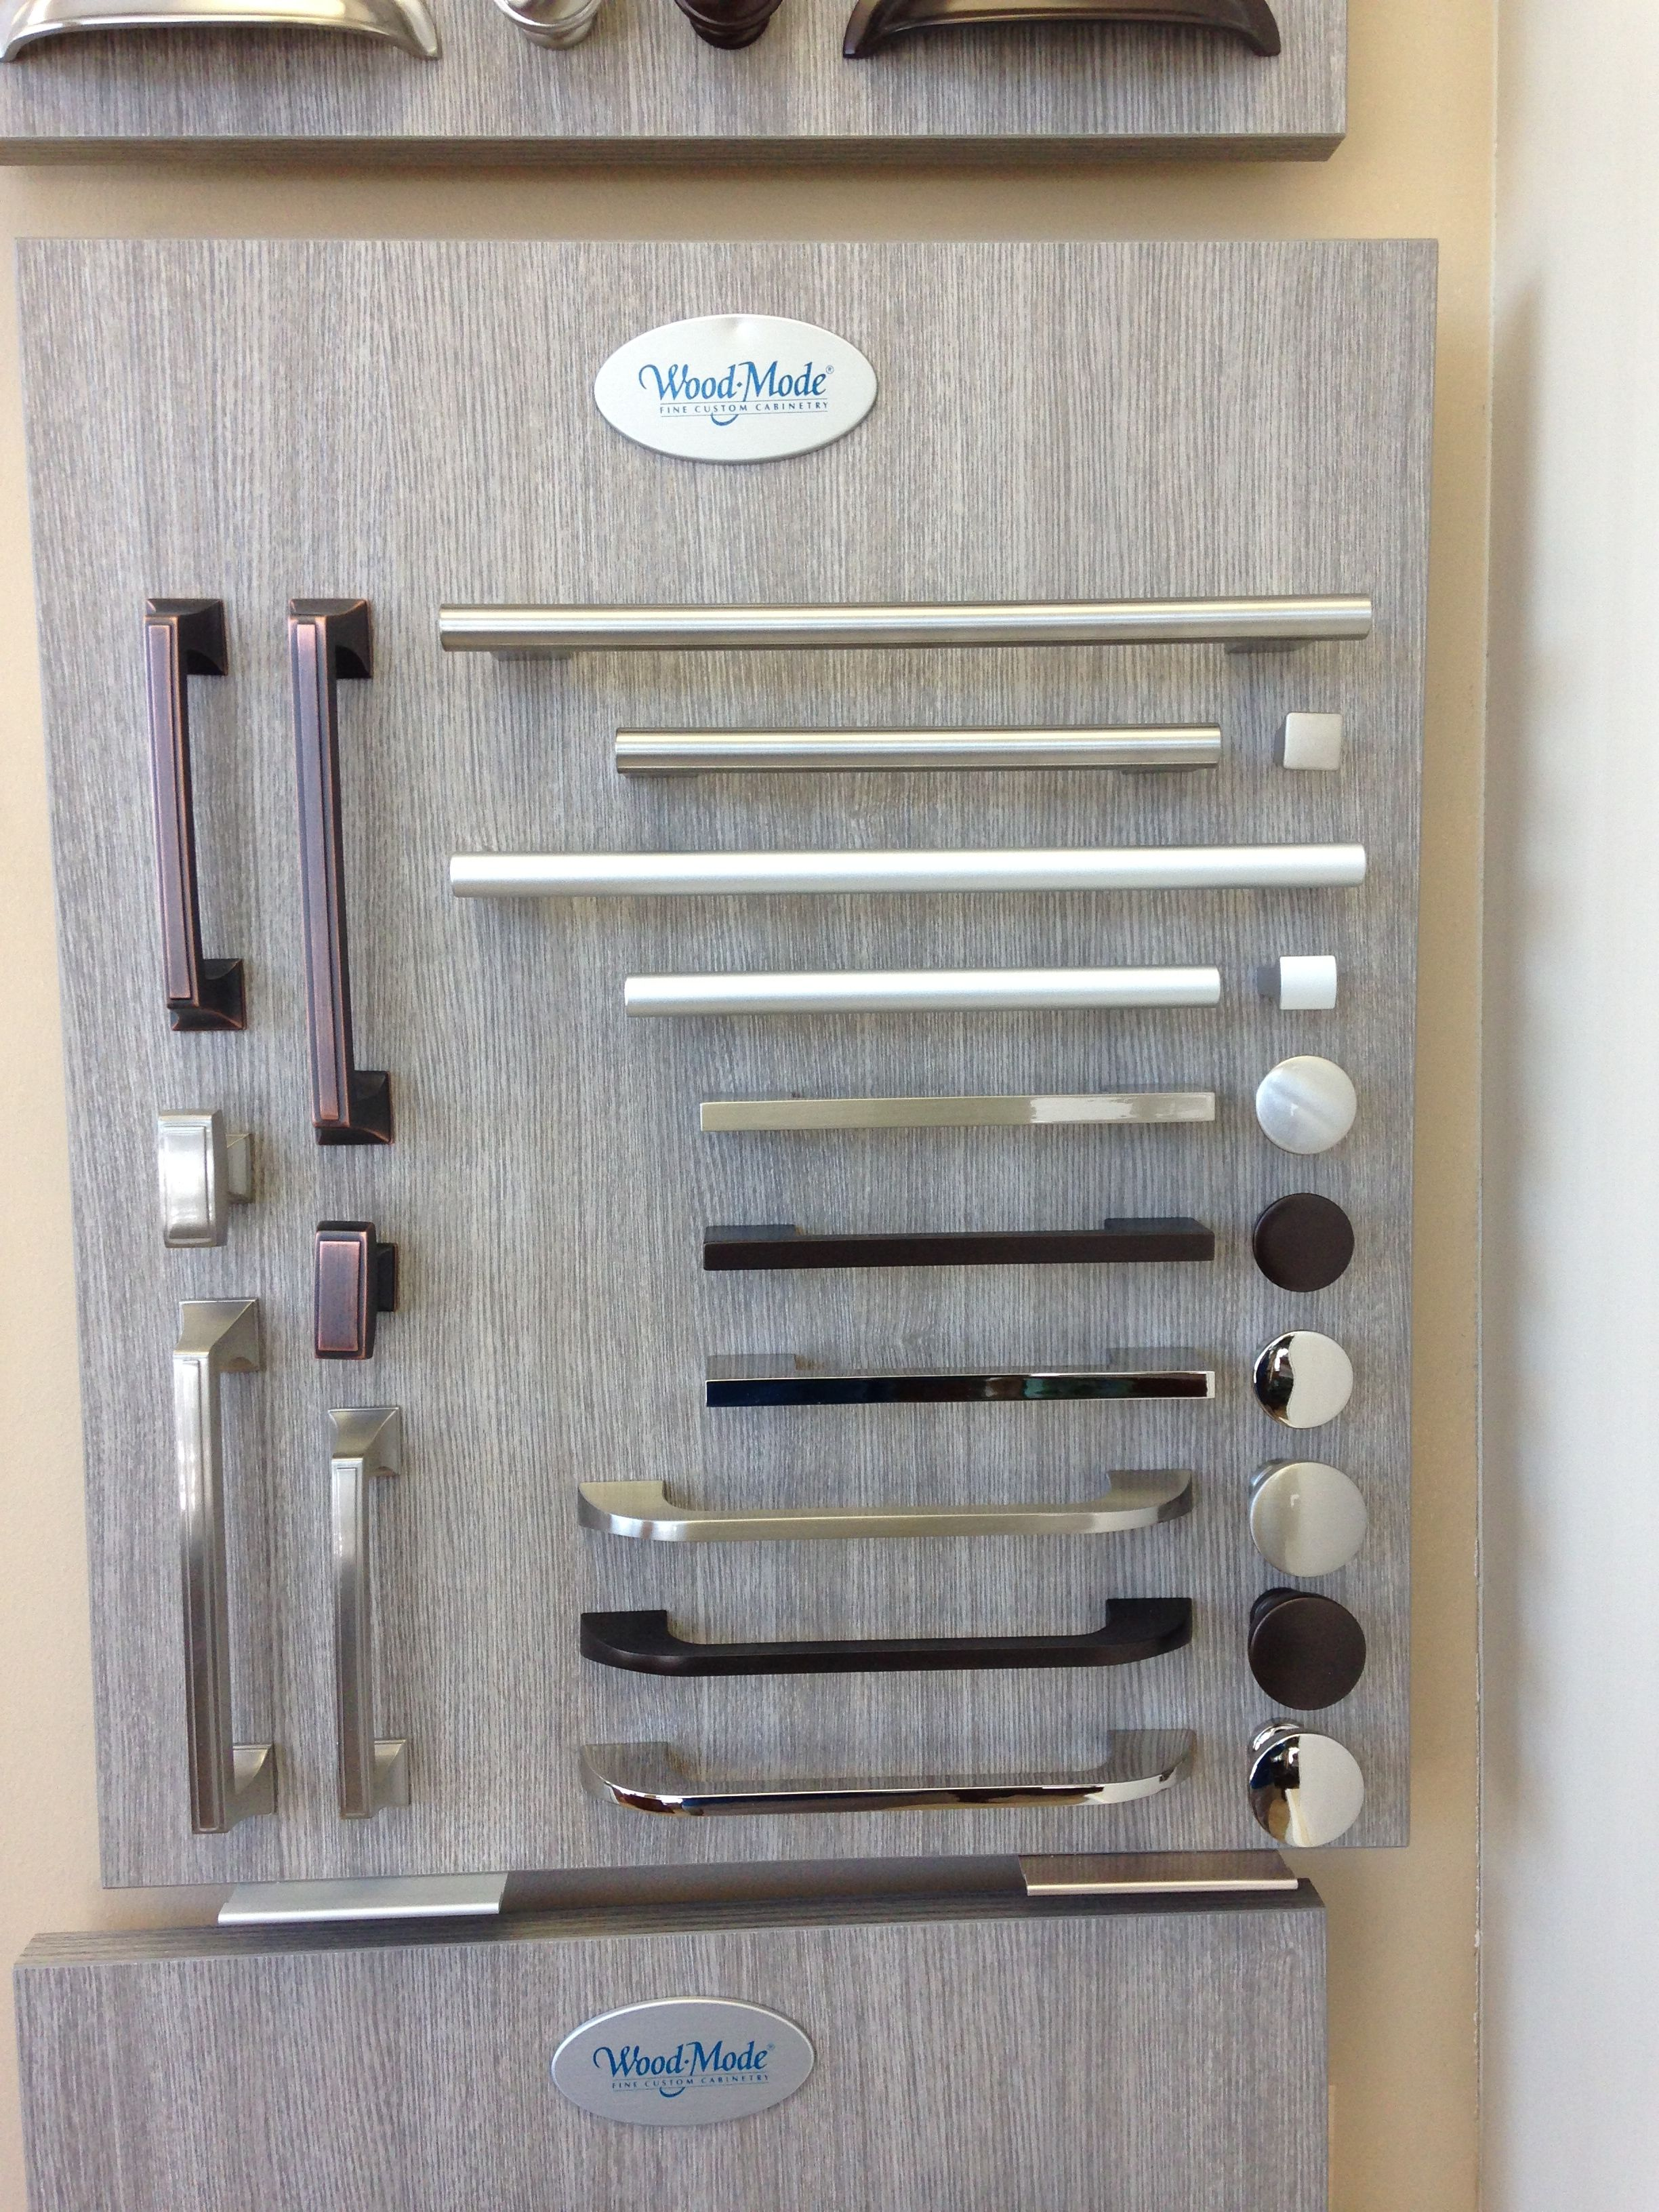handle: (439, 575, 1378, 697), (577, 1561, 1202, 1714), (589, 1439, 1195, 1573), (265, 578, 401, 1143), (610, 707, 1239, 824), (437, 836, 1384, 913), (695, 1324, 1230, 1456), (589, 1733, 1204, 1841), (699, 1195, 1227, 1315), (150, 1294, 265, 1813), (680, 1061, 1232, 1155), (127, 590, 235, 1069), (606, 965, 1230, 1038), (321, 1411, 413, 1806), (1211, 1561, 1396, 1724), (1216, 1710, 1408, 1867), (1216, 1425, 1378, 1580), (1248, 1294, 1358, 1444), (289, 1231, 396, 1383), (1232, 1190, 1371, 1303), (148, 1078, 235, 1254), (1237, 1038, 1368, 1155), (1258, 688, 1359, 789), (1243, 944, 1354, 1026)
